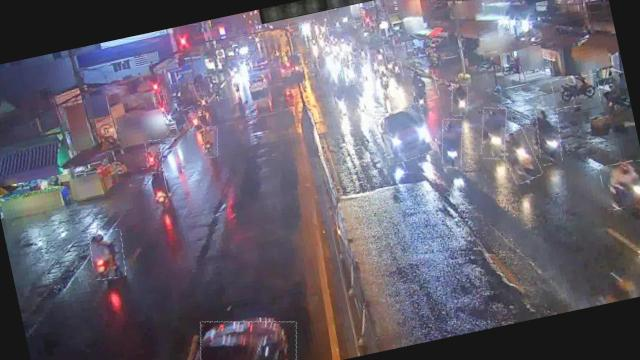Bike: (498, 127, 541, 186), (86, 227, 128, 281), (598, 159, 640, 211), (475, 105, 513, 162), (531, 105, 566, 166), (550, 72, 602, 110), (435, 115, 469, 170), (410, 70, 440, 102), (150, 167, 170, 208), (448, 82, 472, 116), (144, 138, 166, 174), (479, 50, 506, 78), (200, 125, 222, 159), (183, 105, 202, 133), (376, 70, 394, 98), (342, 62, 359, 87), (372, 43, 388, 68), (390, 60, 404, 82), (197, 92, 210, 112)
Car: (193, 307, 303, 360), (374, 102, 434, 165)
